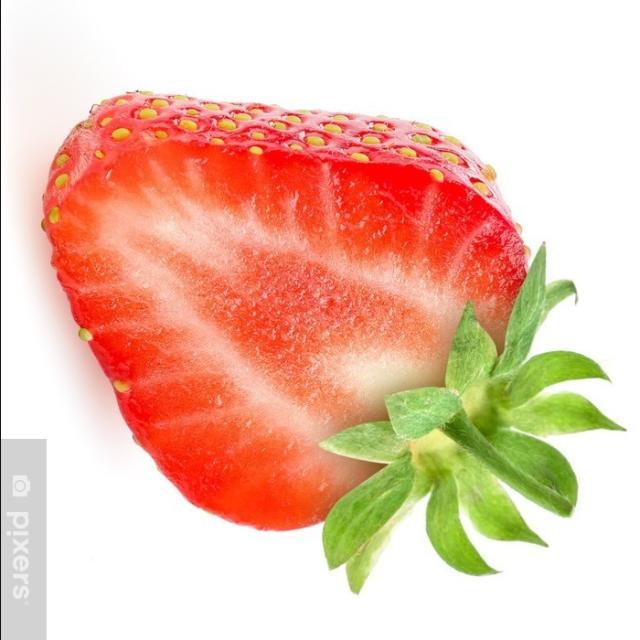strawberry: (33, 70, 593, 582)
